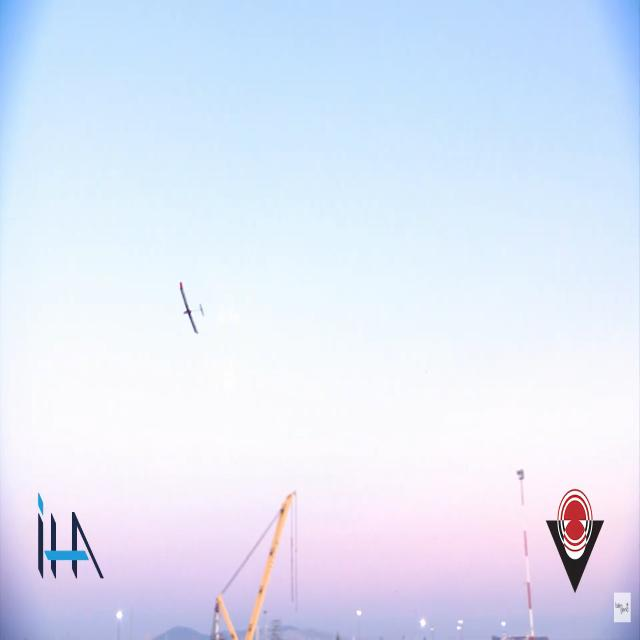iha: (179, 280, 205, 334)
